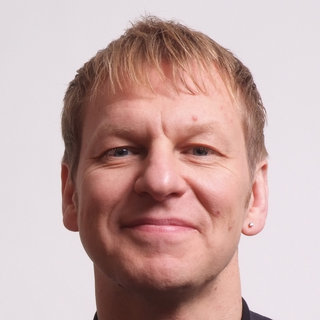eye: (98, 140, 145, 164), (178, 141, 225, 164)
